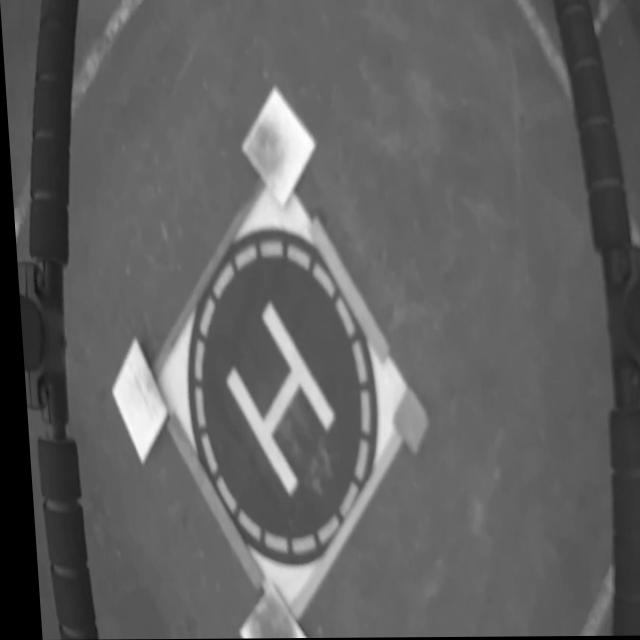Helipad: (221, 302, 329, 495)
